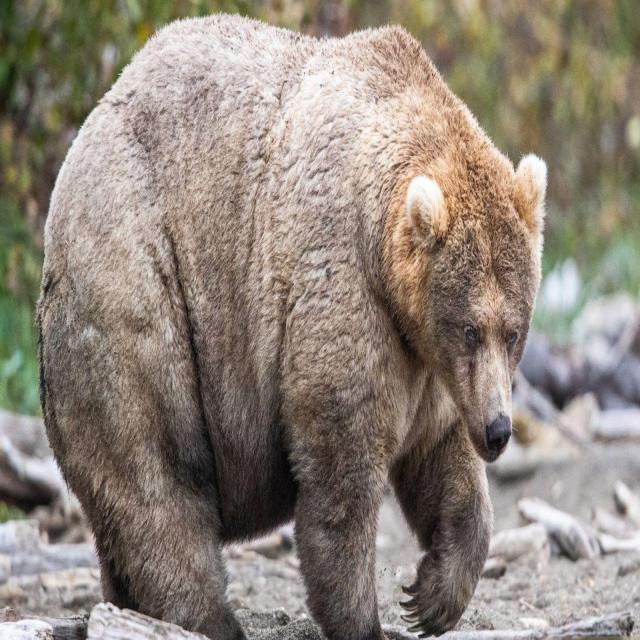Bear: (36, 14, 548, 640)
